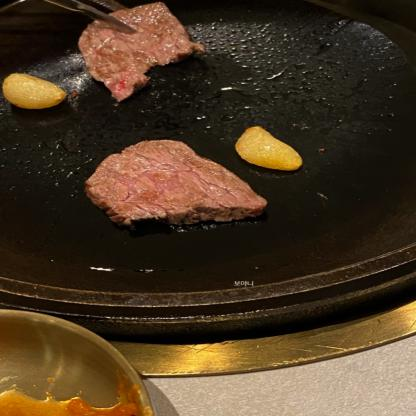Carne: (82, 135, 277, 235), (74, 31, 195, 96)
